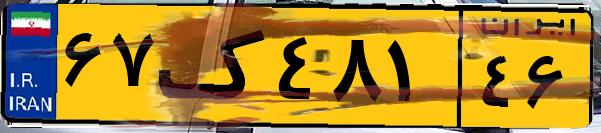1: (385, 28, 445, 110)
4: (270, 28, 330, 110), (475, 38, 525, 113)
6: (57, 26, 110, 100), (525, 38, 570, 115)
7: (110, 28, 158, 98)
8: (330, 28, 385, 110)
ک: (158, 12, 270, 120)
